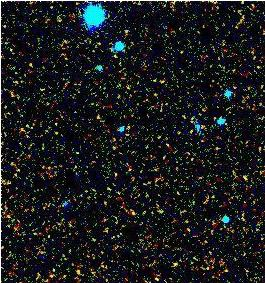star: (119, 198, 149, 228)
